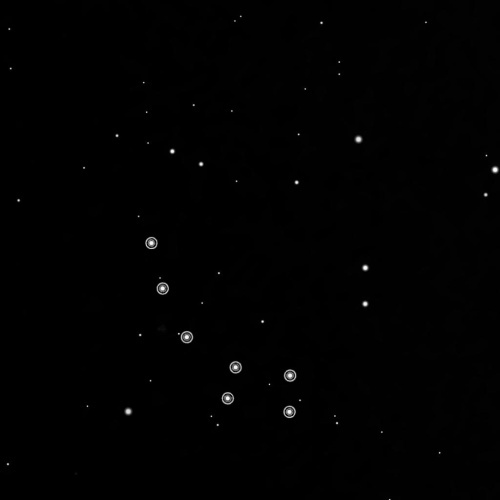ursa_minor: (139, 233, 310, 422)
